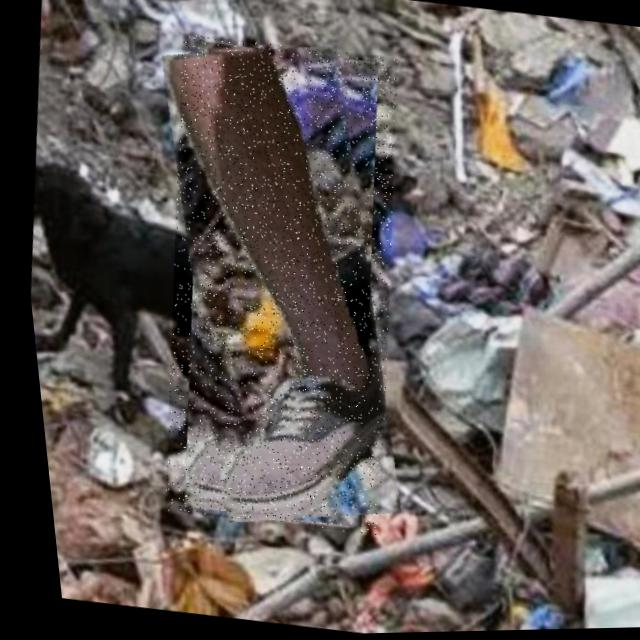Person in Rubble: (115, 31, 435, 541)
